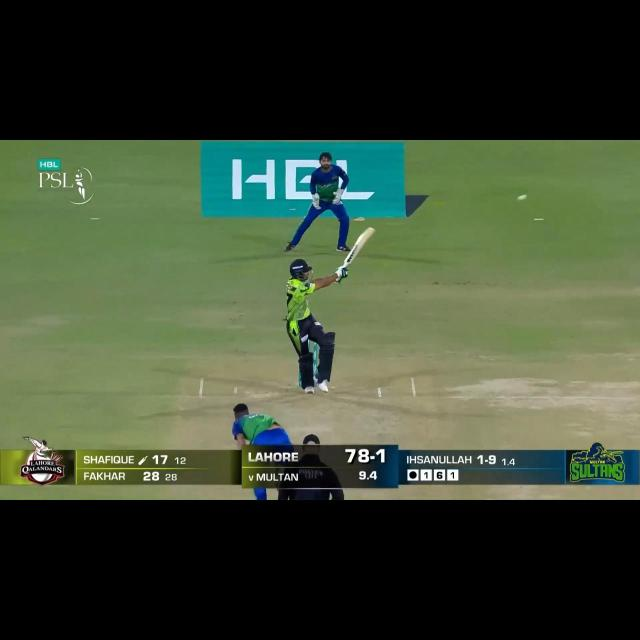bat: (342, 227, 376, 269)
toe: (364, 228, 376, 238)
